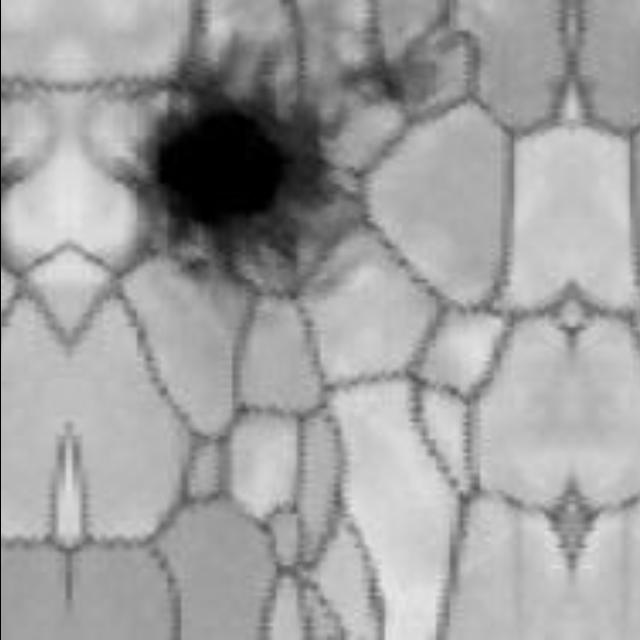good_void: (107, 38, 373, 299), (338, 49, 436, 122)
